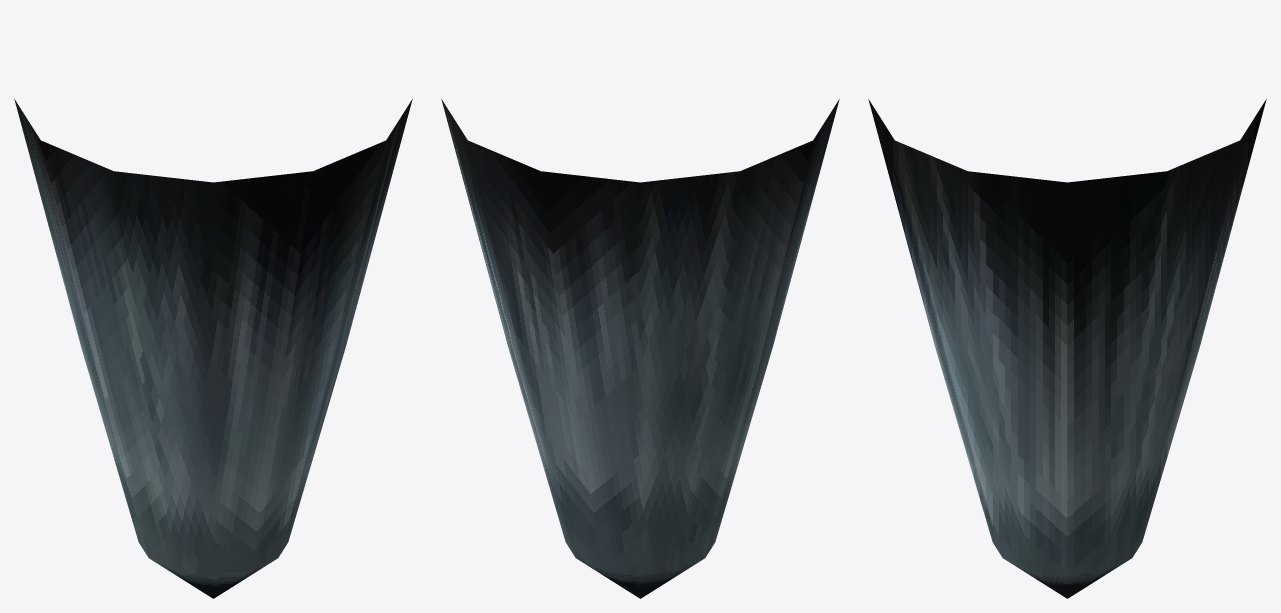
File: airforce.glb
3 views of the same model, side by side, from view 1: azimuth 30°, elevation 25°; view 2: azimuth 150°, elevation 25°; view 3: azimuth 270°, elevation 25° (orthographic).
Visible parts, largest first — view 1: model_airforce; view 2: model_airforce; view 3: model_airforce.
Boxes of the visible parts, box(x1,y1,x2,y2) form: model_airforce: box(14, 99, 412, 598); model_airforce: box(441, 99, 839, 598); model_airforce: box(868, 99, 1266, 598).
Size of the model in its own units: 0.634 by 0.8786 by 0.634.
Materials: 1 (1 with a texture image).
